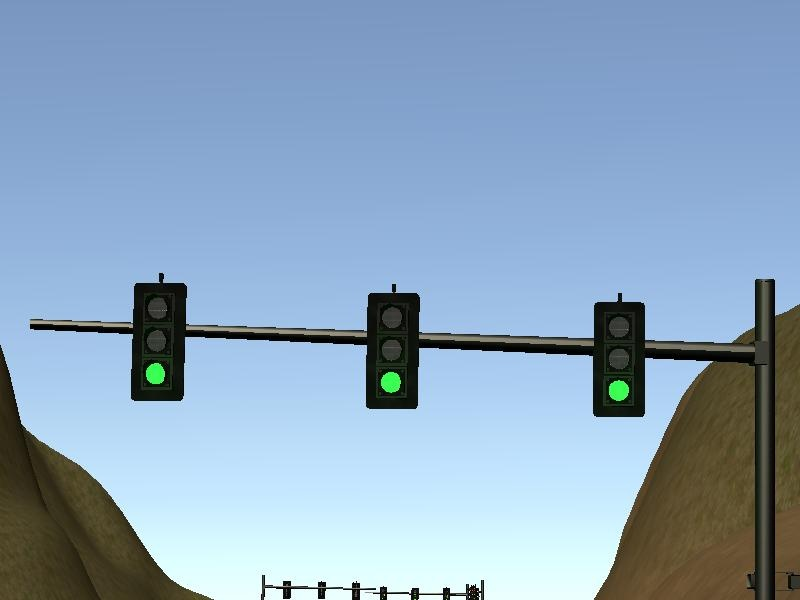traffic_light_green: (30, 268, 775, 421)
